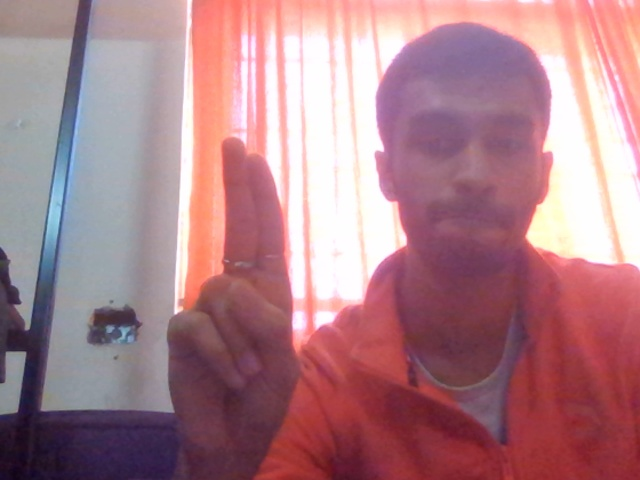U: (121, 113, 365, 480)
